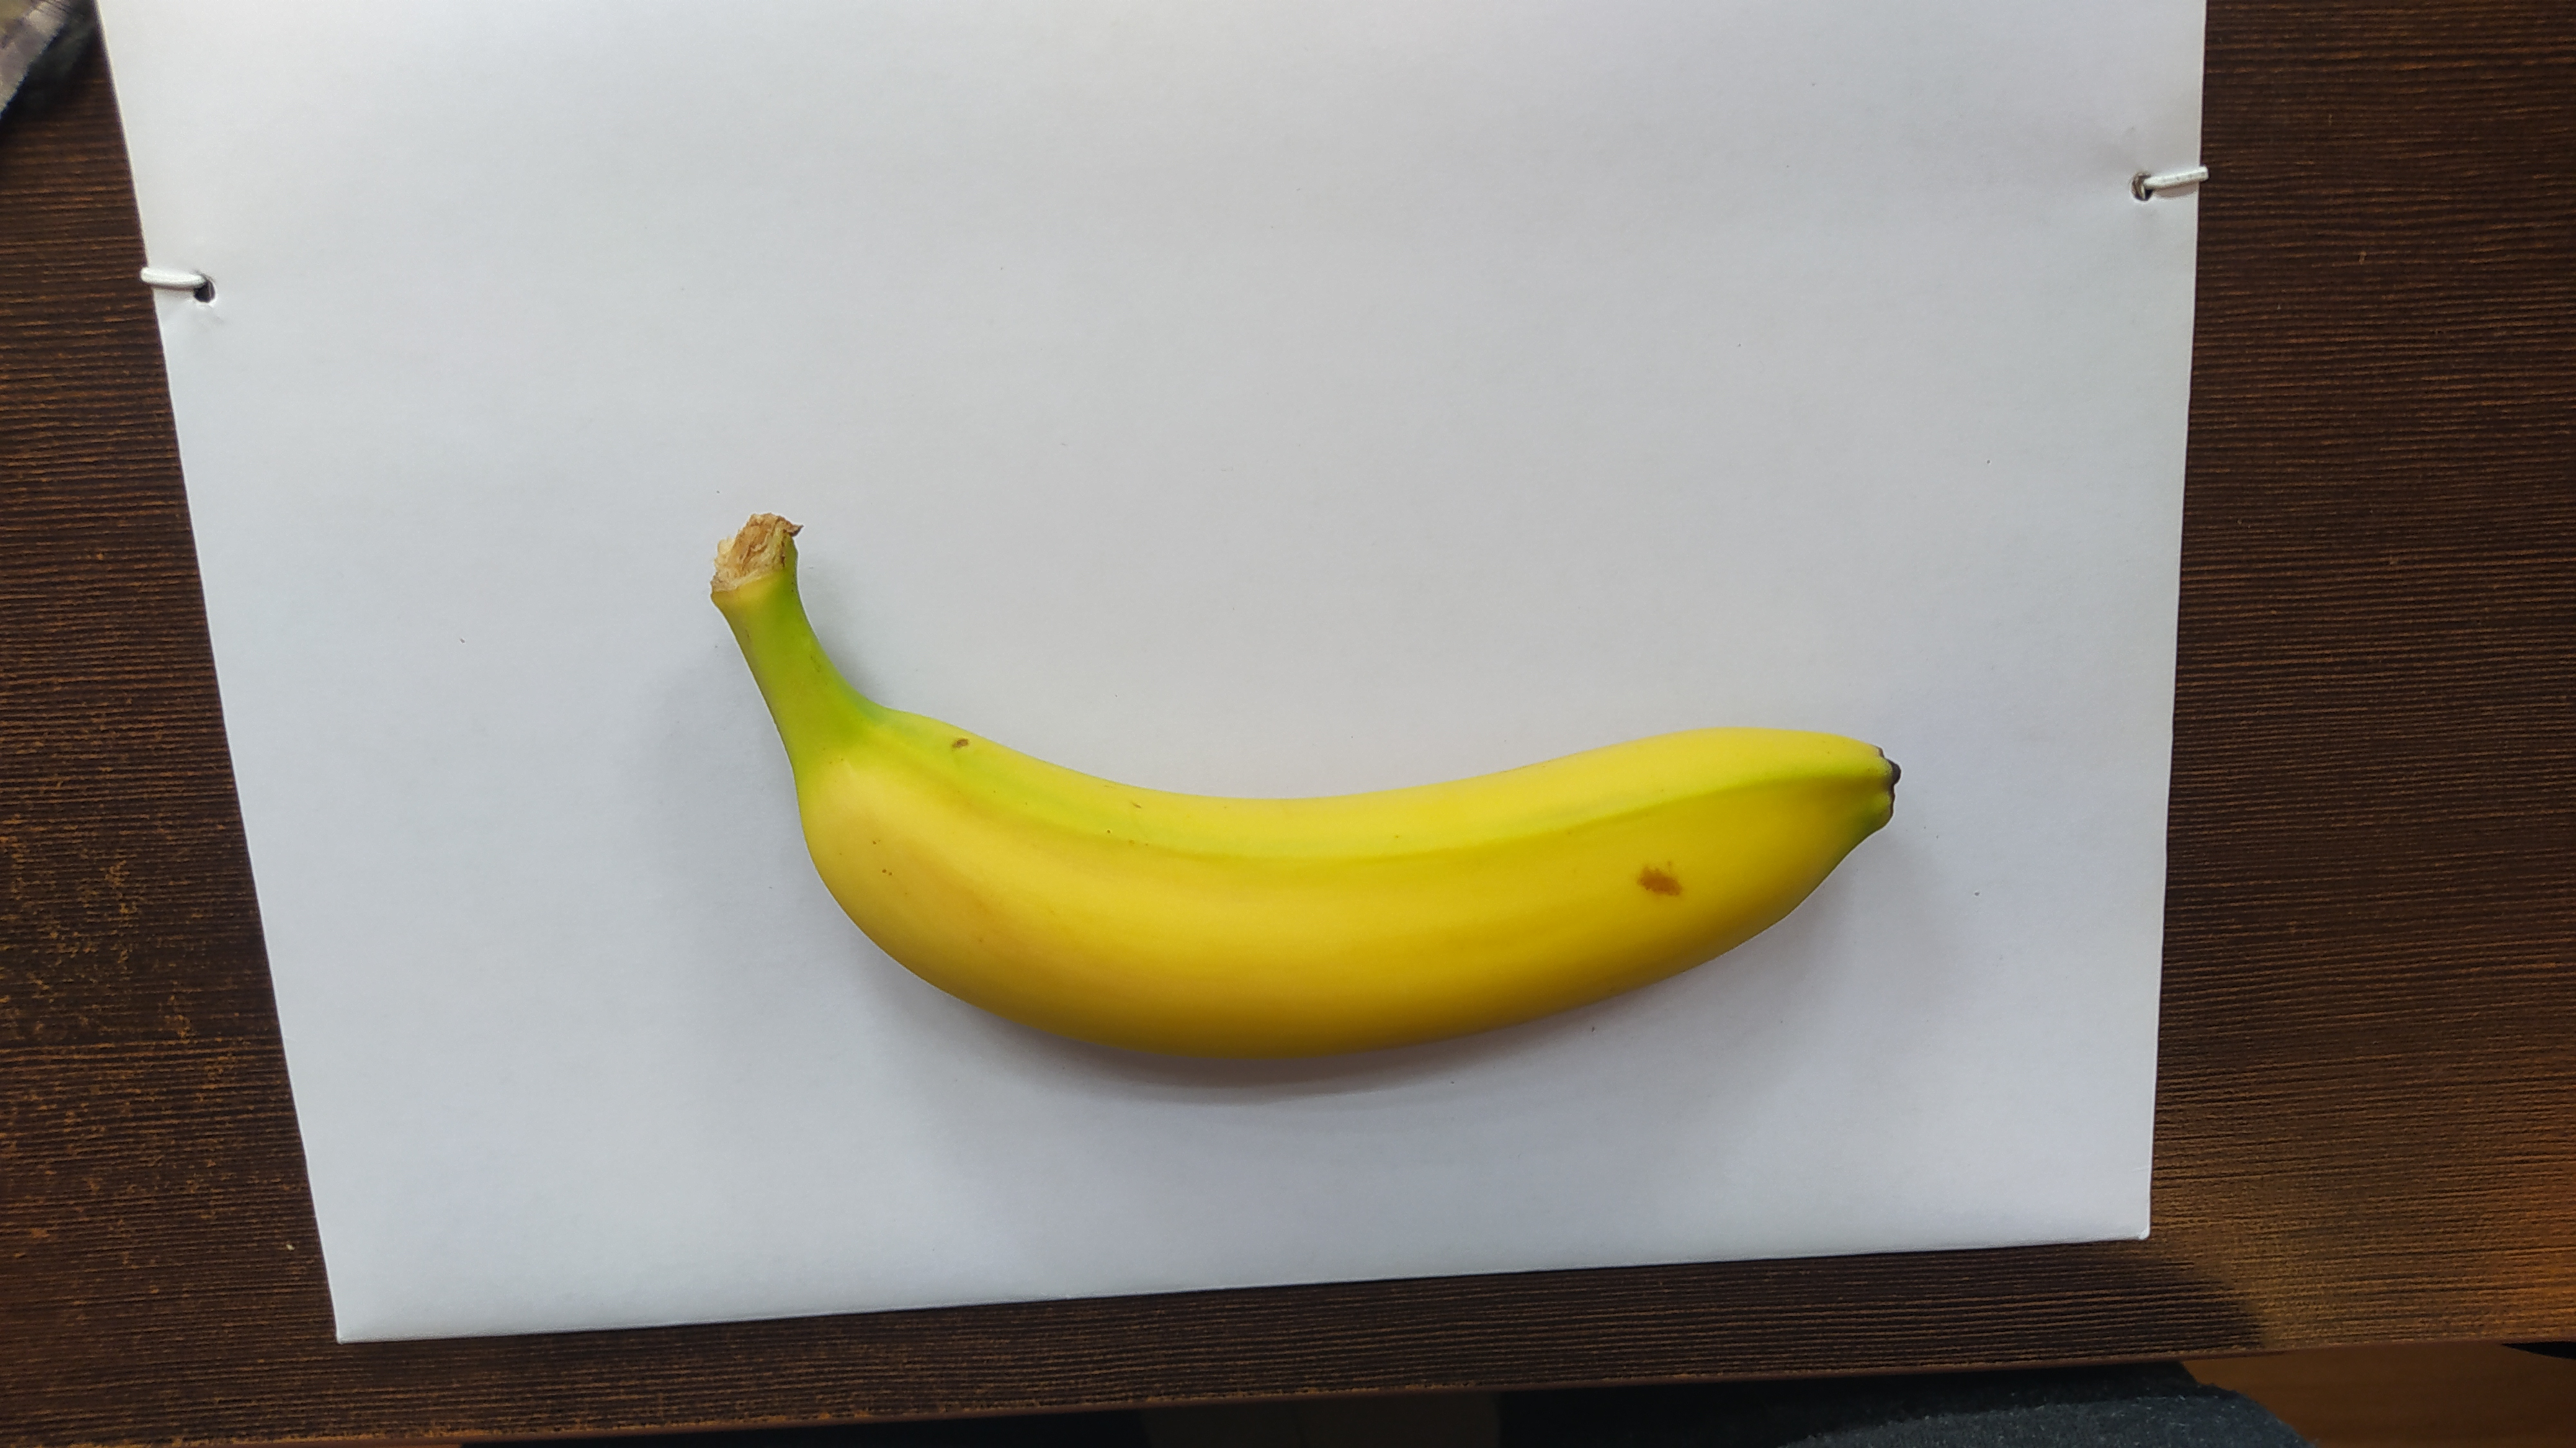banana: (711, 510, 1907, 1069)
